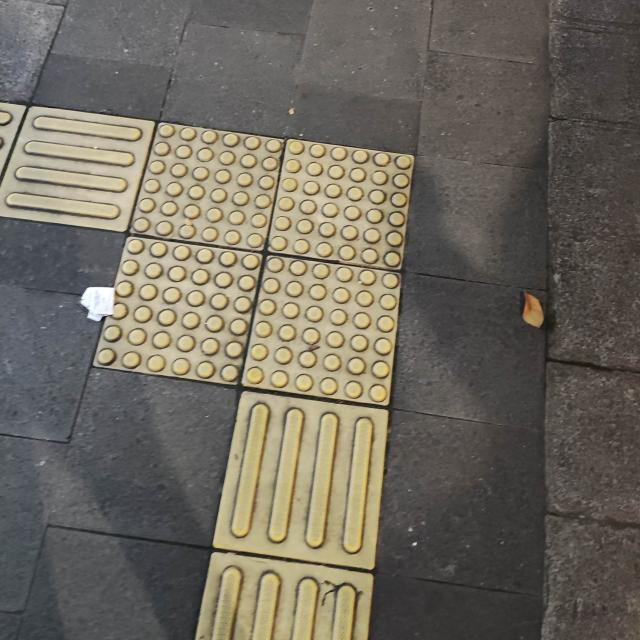kiri: (0, 42, 487, 526)
